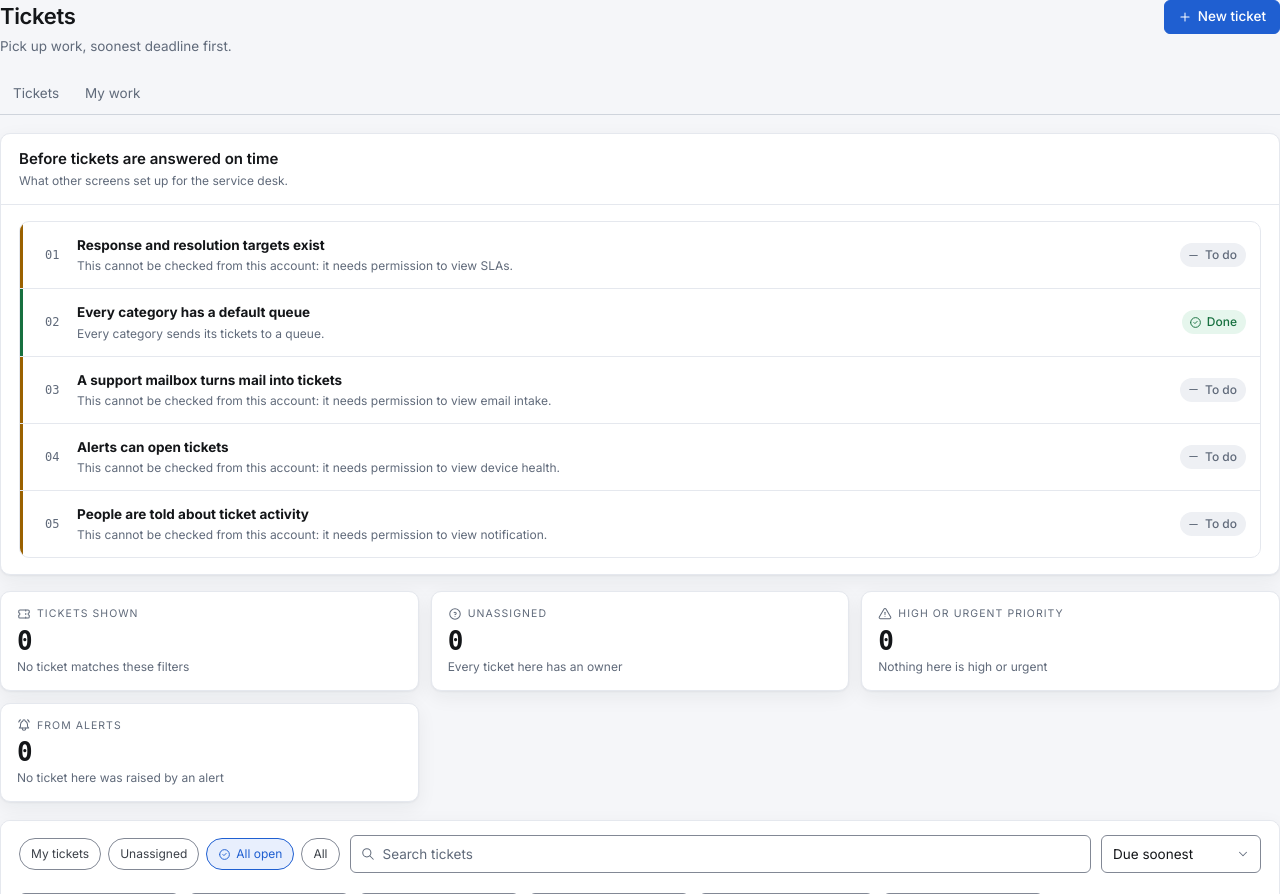
it: TicketListPage wiring › keeps the form usable and explains itself when the user directory is refused
What coordinates should you click on to do the following:
click the button "New ticket"
I would click on:
 (1222, 17)
Its box is [1164,0,1279,34].
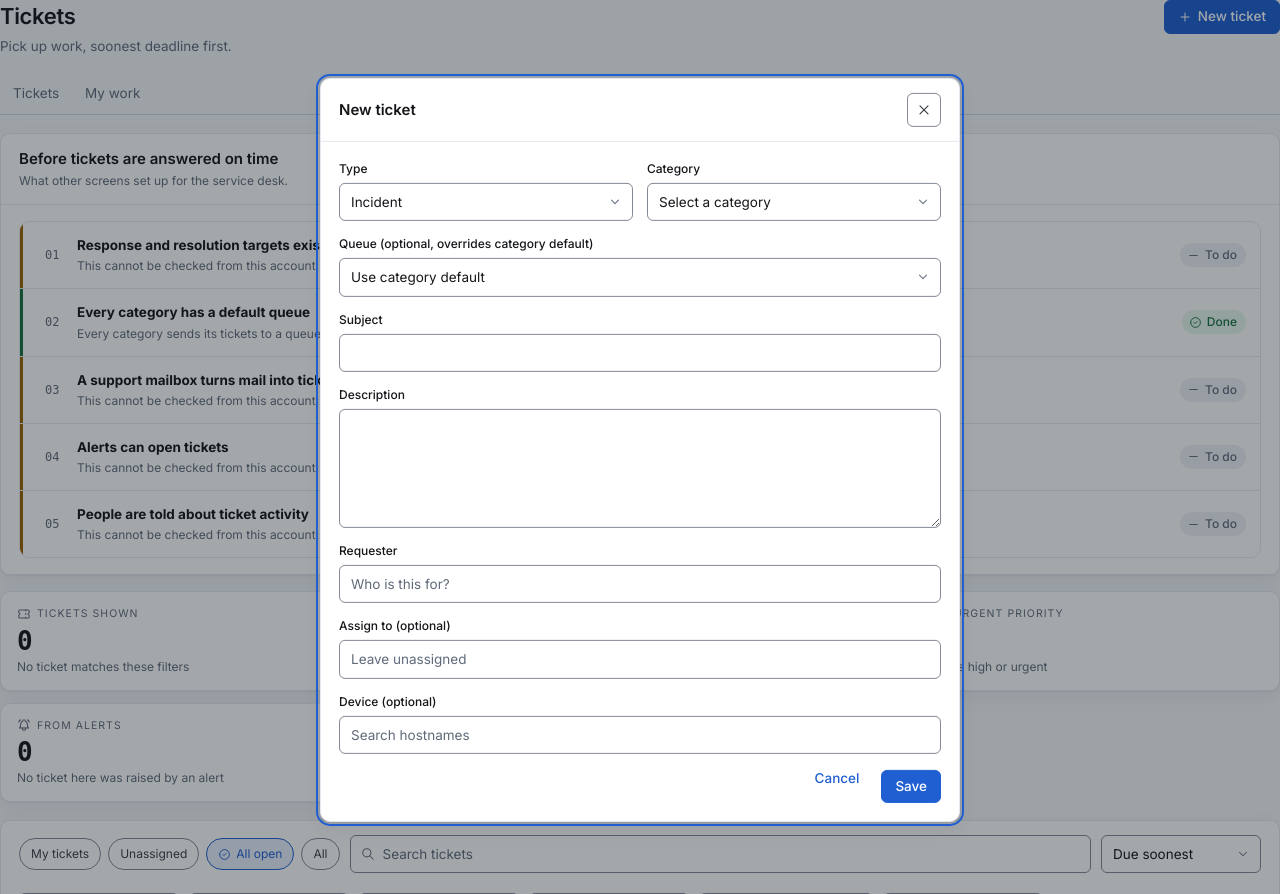
What coordinates should you click on to do the following:
click the dropdown labelled "Requester"
I would click on:
 (640, 584)
Its box is [339,565,941,603].
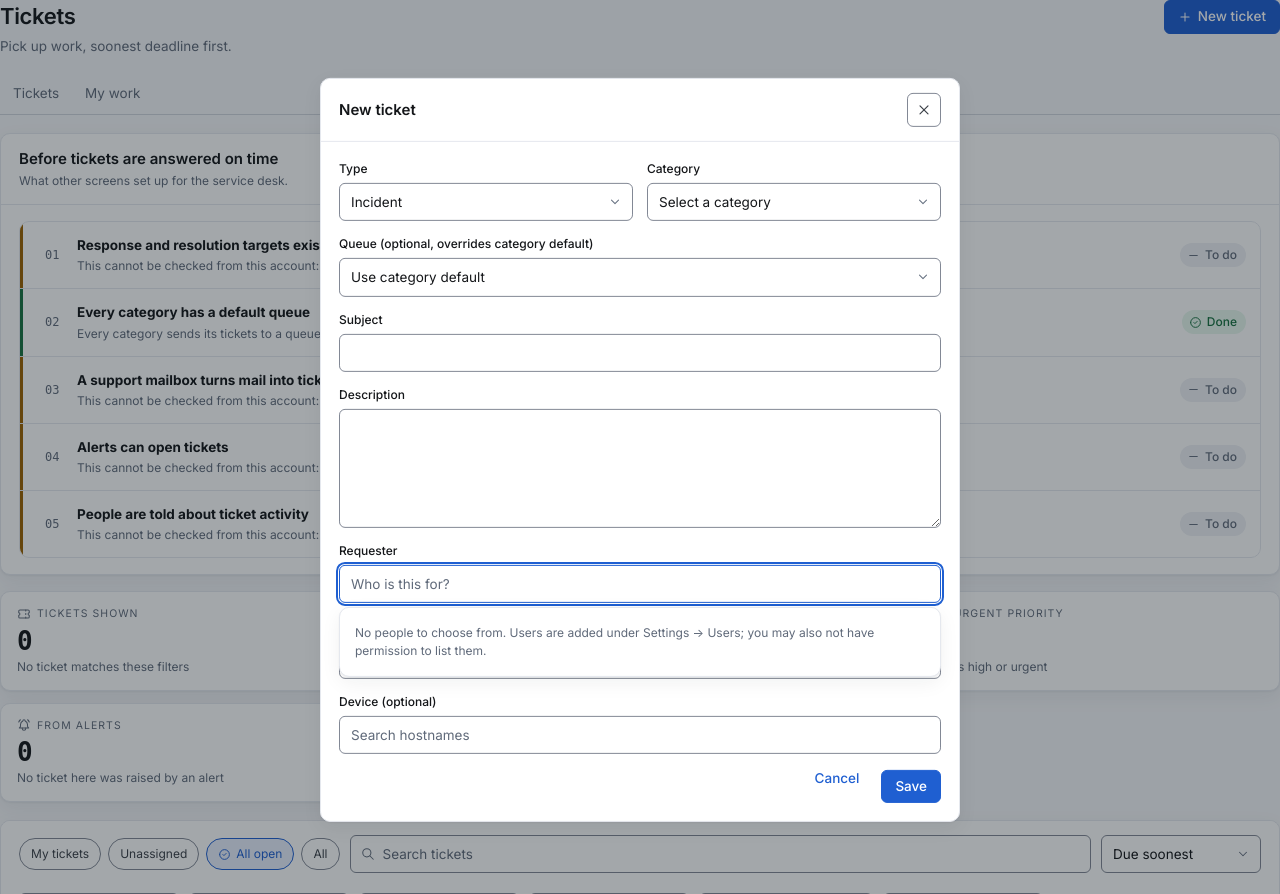
Check: the button "Save" is enabled, box [881,770,941,803]
Check: the list item "you may also not have permission to list them" is shown, box [355,625,874,658]
